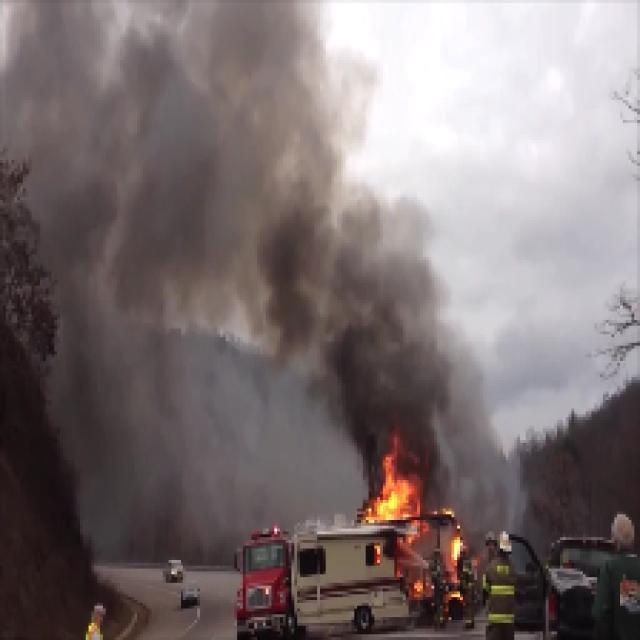Fire: (358, 462, 416, 520)
Smoke: (84, 76, 336, 284), (330, 314, 442, 441)
